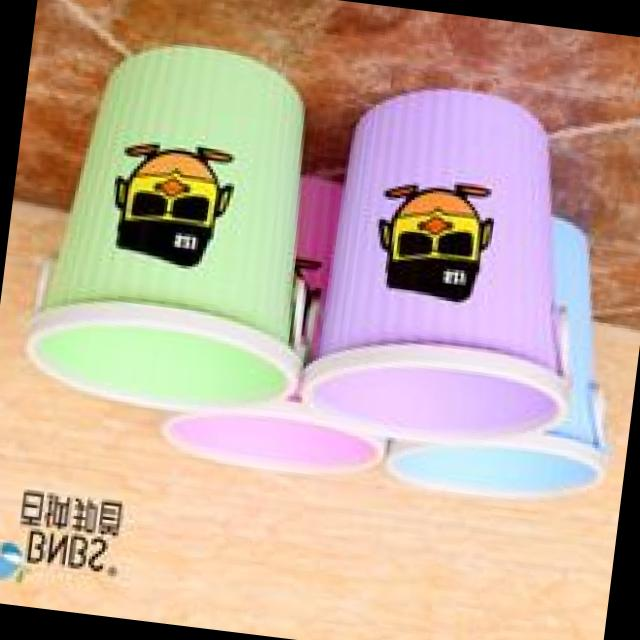dustbin: (15, 28, 342, 428), (298, 75, 610, 462)
